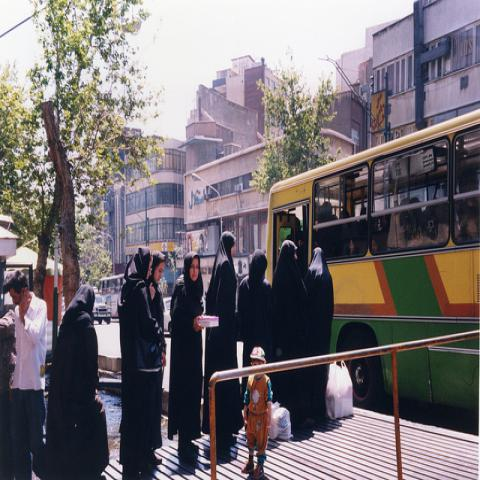bus: (271, 110, 478, 434)
car: (90, 295, 112, 323), (163, 298, 172, 333)
